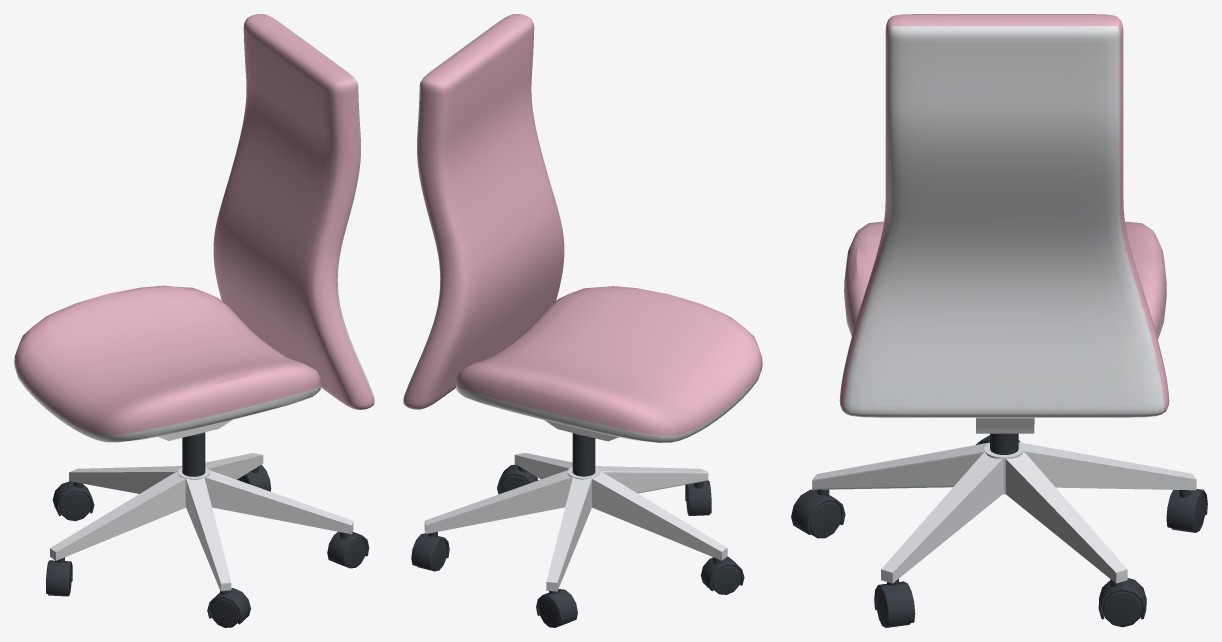
The model's file is cuteChair.glb.
The picture shows the model from 3 angles, left to right: view 1: azimuth 30°, elevation 25°; view 2: azimuth 150°, elevation 25°; view 3: azimuth 270°, elevation 25°; orthographic projection. The views are drawn at different scales.
Visible parts, largest first — view 1: chair_body_interact, chair_base_interact; view 2: chair_body_interact, chair_base_interact; view 3: chair_body_interact, chair_base_interact.
Part boxes in pixels (box(x1,y1,x2,y2)): chair_body_interact: box(14, 14, 374, 479); chair_base_interact: box(46, 453, 369, 627); chair_body_interact: box(403, 14, 762, 479); chair_base_interact: box(411, 453, 744, 627); chair_body_interact: box(839, 14, 1169, 494); chair_base_interact: box(791, 435, 1207, 627).
Size of the model in its own units: 0.7918 by 1.3 by 0.8133.
1 material, 1 textured.
